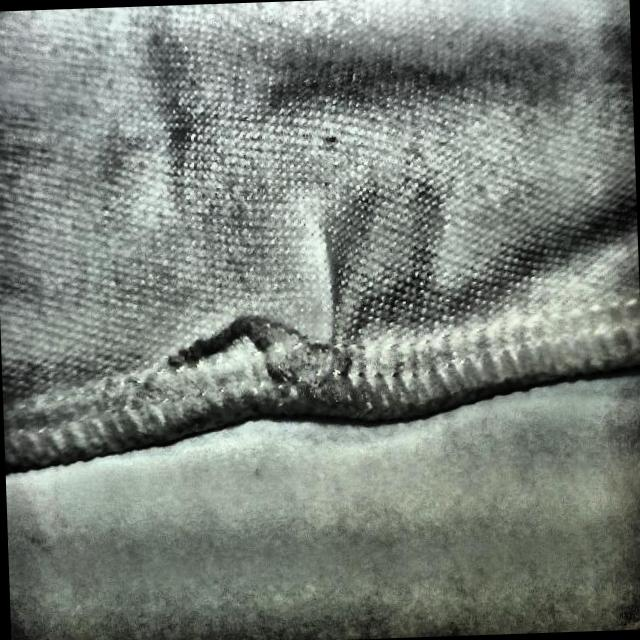gray stitch: (172, 227, 377, 422)
